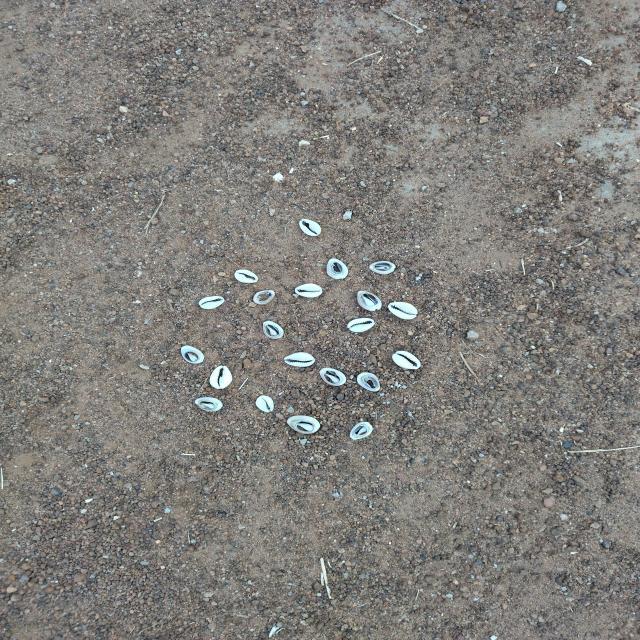facedown: (285, 414, 324, 435), (355, 370, 384, 393), (178, 345, 208, 365), (355, 290, 382, 312), (261, 319, 286, 342), (324, 258, 350, 280), (318, 368, 348, 386), (193, 395, 224, 412), (366, 260, 398, 276), (350, 420, 374, 441), (252, 289, 278, 306)
faceup: (391, 349, 423, 371), (208, 364, 234, 391), (387, 301, 420, 320), (283, 351, 317, 368), (294, 282, 327, 298), (299, 217, 324, 238), (346, 316, 376, 332), (232, 268, 260, 285), (254, 394, 276, 414), (198, 294, 225, 310)
